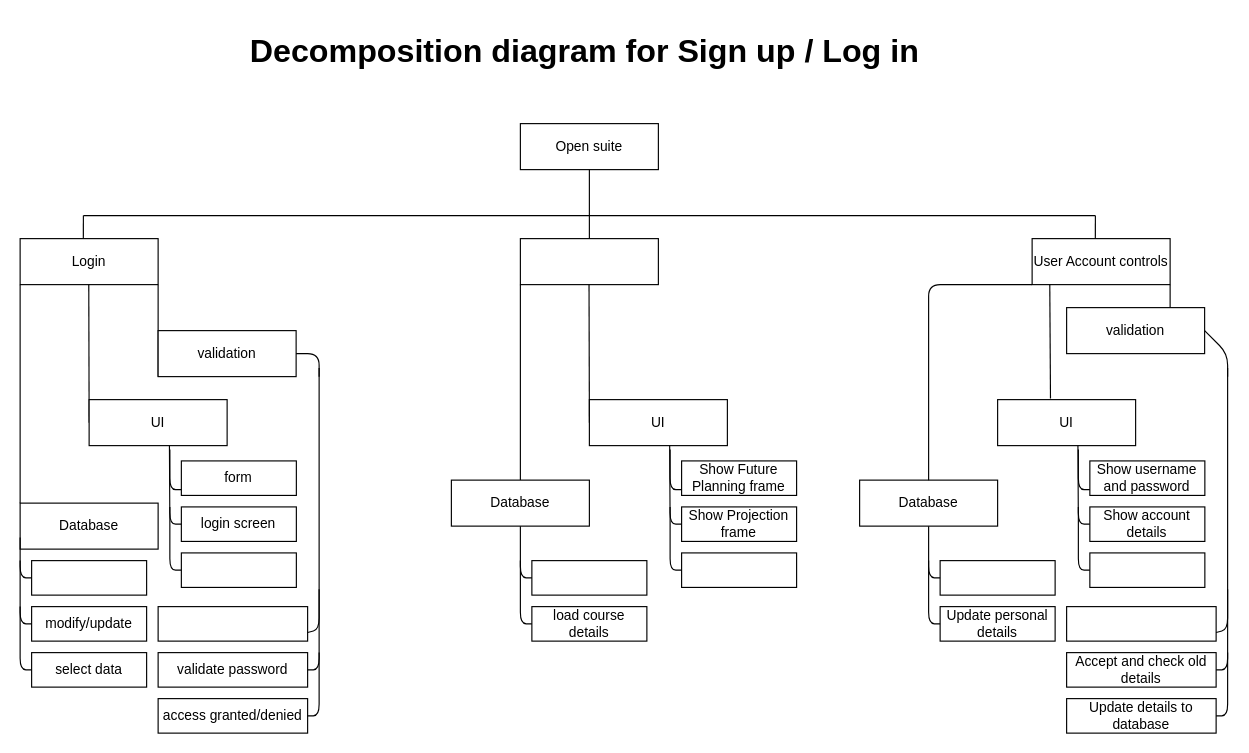
This 1249x753 diagram has some shape labels left out. Here are the shapes that lost their labels. From the top down, the centre of each, then its label:
the point at 588,261: Profile
the point at 88,577: new entry
the point at 238,569: success/error
the point at 589,577: retrieve user data
the point at 738,569: Show feed with entries
the point at 997,577: Download personal details
the point at 1147,569: Change buttons
the point at 232,623: validate username
the point at 1140,623: Confirm old details before allowing new
